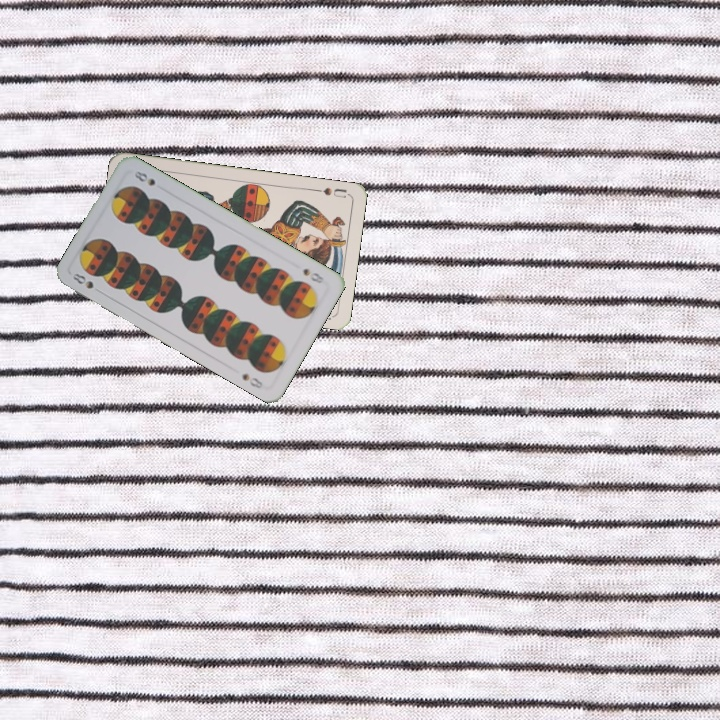S8: (299, 264, 328, 286), (68, 269, 96, 291)
SU: (310, 183, 351, 200)
